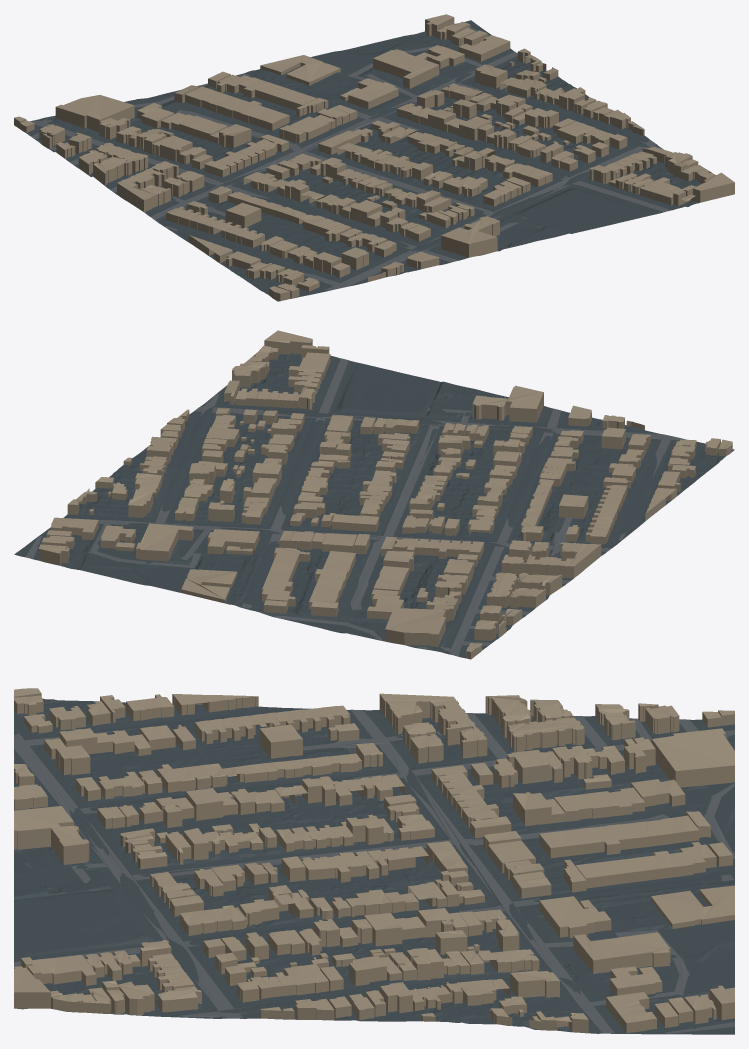
The model's file is epsg26910-1437-10869.lod0.glb.
3 views of the same model, one above another, from view 1: azimuth 30°, elevation 25°; view 2: azimuth 150°, elevation 25°; view 3: azimuth 270°, elevation 25° (orthographic). The views are drawn at different scales.
Parts seen in each view (by area): view 1: epsg26910-1437-10869-lod0; view 2: epsg26910-1437-10869-lod0; view 3: epsg26910-1437-10869-lod0.
Part boxes in pixels (<box>): epsg26910-1437-10869-lod0: <box>14,14,734,301</box>; epsg26910-1437-10869-lod0: <box>14,330,734,659</box>; epsg26910-1437-10869-lod0: <box>14,688,734,1034</box>.
Size of the model in its own units: 384 by 27.7 by 384.
